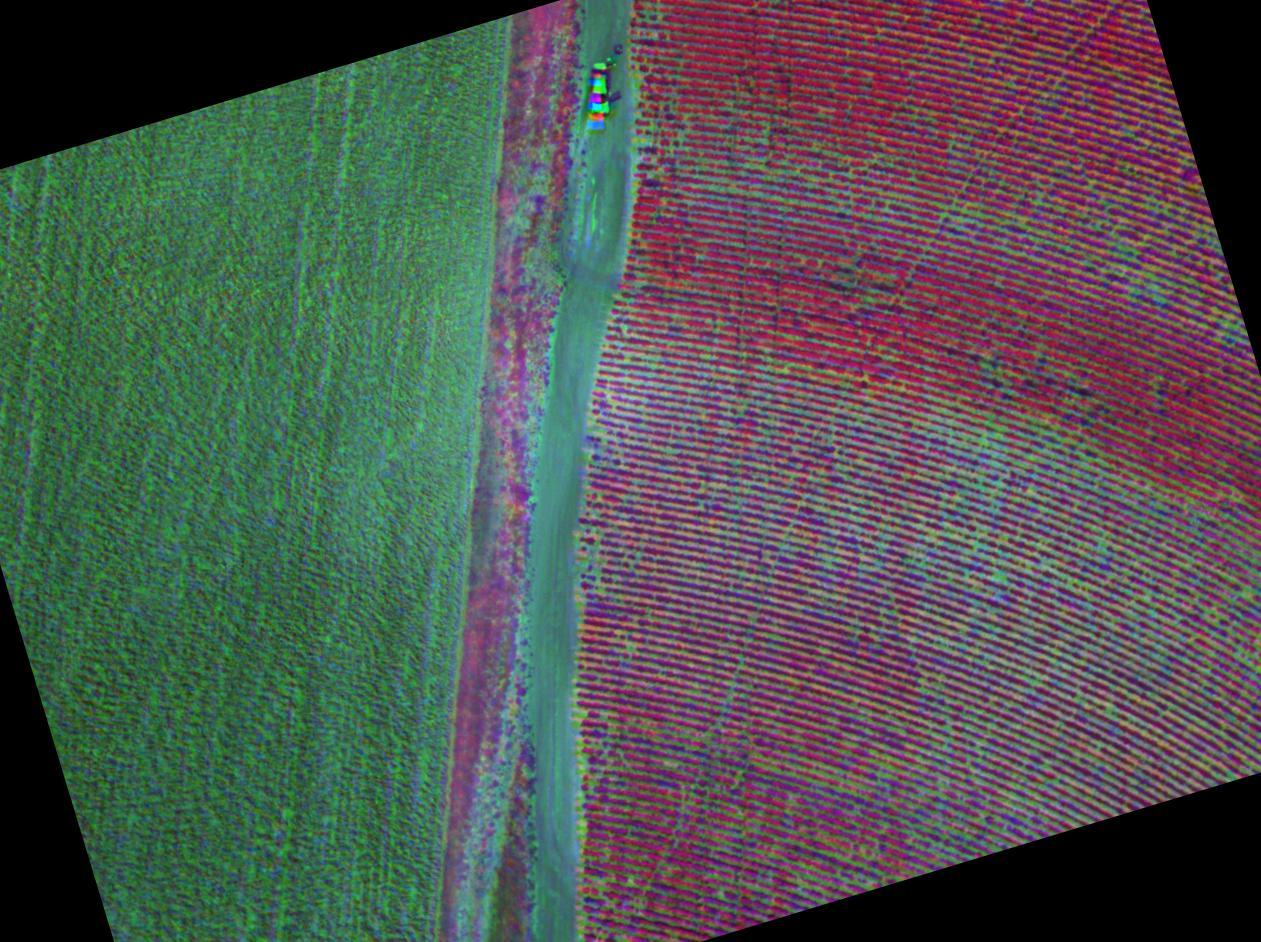dc: (1100, 541, 1104, 546), (783, 535, 787, 539), (827, 556, 831, 560), (997, 573, 1001, 577), (1157, 656, 1161, 660), (711, 186, 715, 189), (612, 402, 616, 405), (667, 448, 670, 452), (698, 158, 701, 161), (829, 179, 832, 182), (626, 354, 629, 357)
